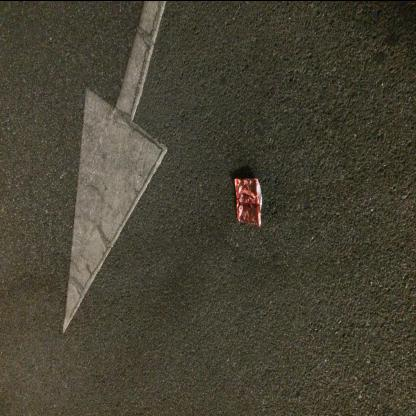plastik: (234, 177, 262, 226)
